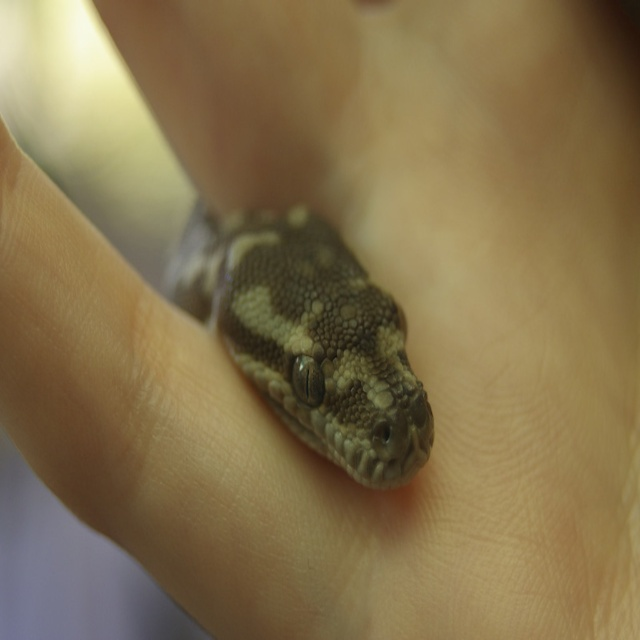Snake: (165, 160, 449, 531)
